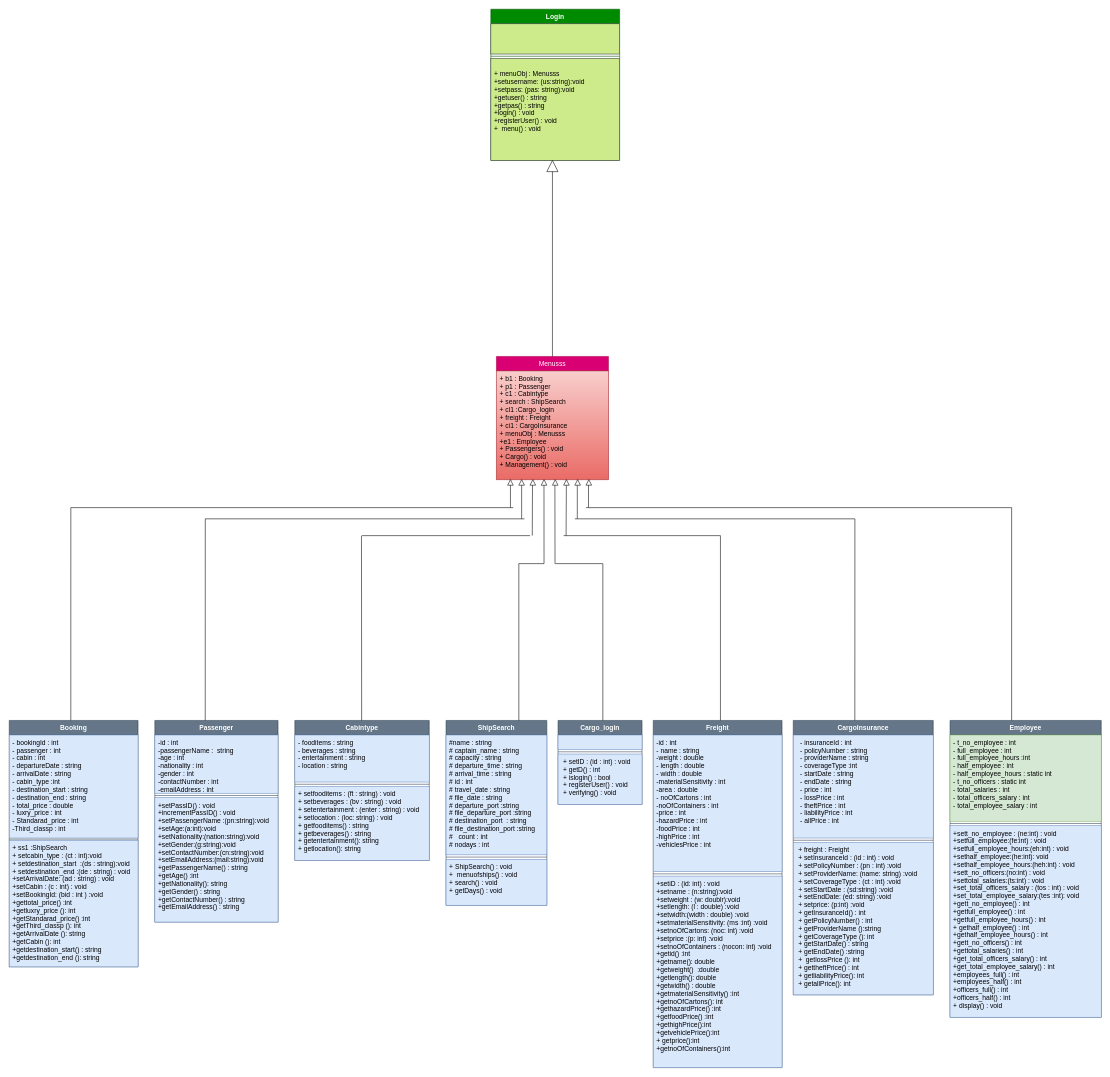
Image size: 1110x1077. Some labels were removed from this diagram. Here are the shapes that lost their labels. From the top down, the centre of each, then its label:
(x=555, y=38): -username : string -password : string -type :int
(x=599, y=742): - ID : int
